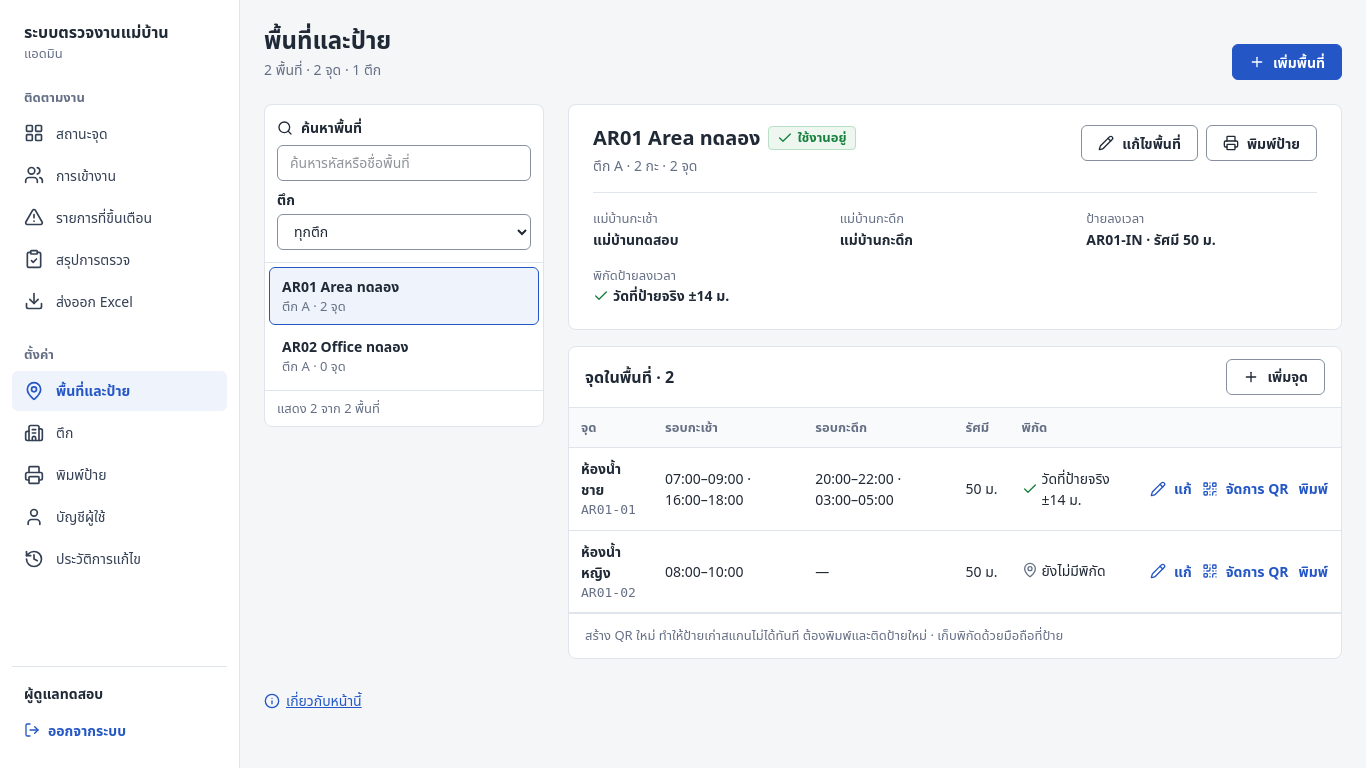
Scenario: PointEditor (D4, facility-0045, 0047) › shows the server’s refusal and keeps the draft
Click the button with aria-label "แก้ไข AR01-01": (1171, 489) [1149,471,1193,507]
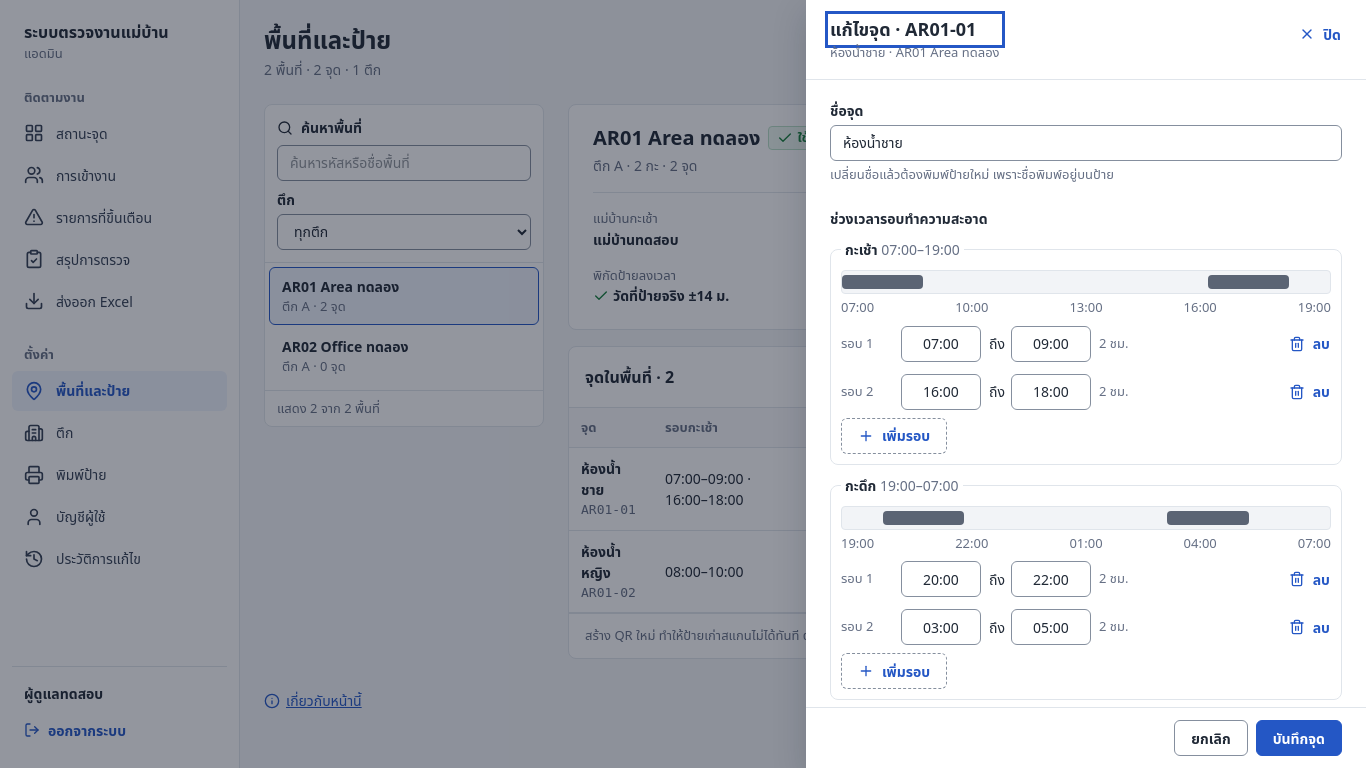
Click the button "เพิ่มรอบ" below "13:00": (894, 436) [841,418,947,454]
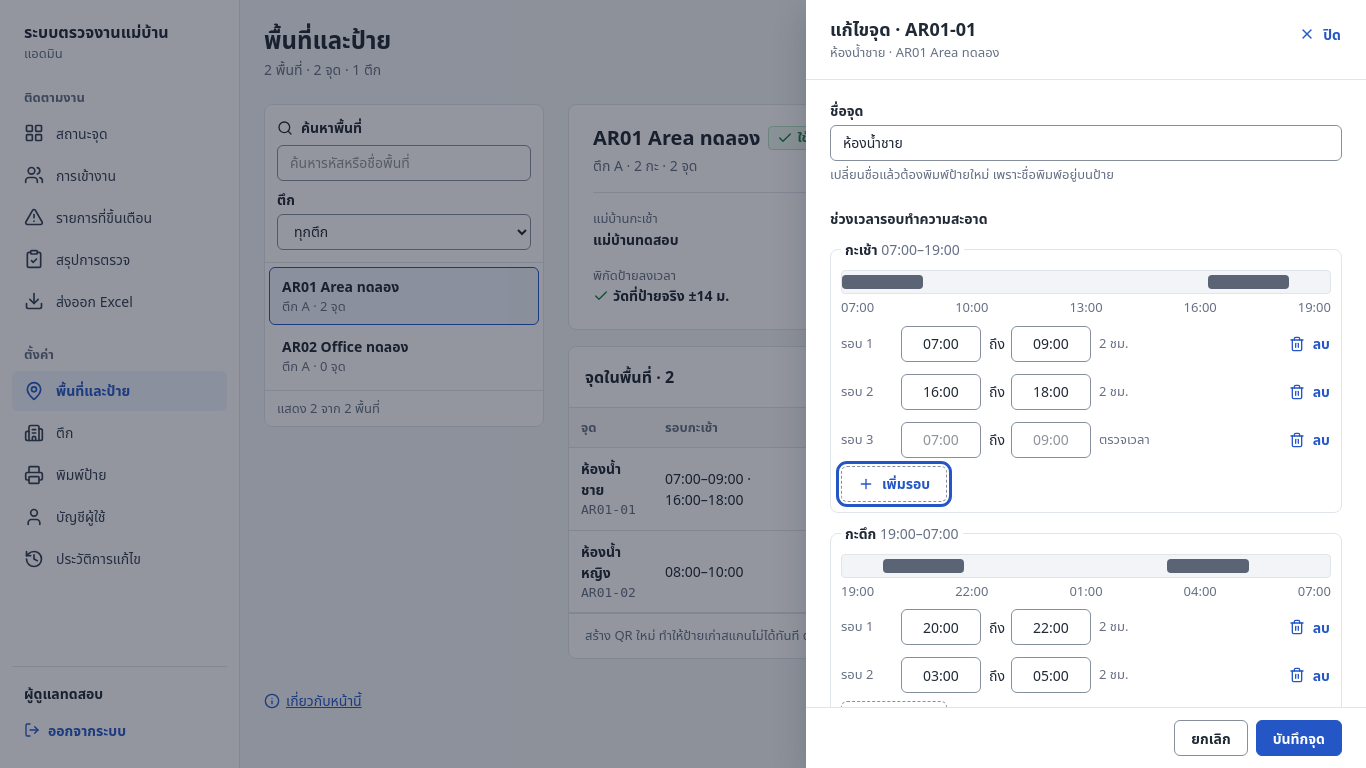
In the field named "เริ่มรอบ 3": (941, 440) [901,422,981,458], type "1800"
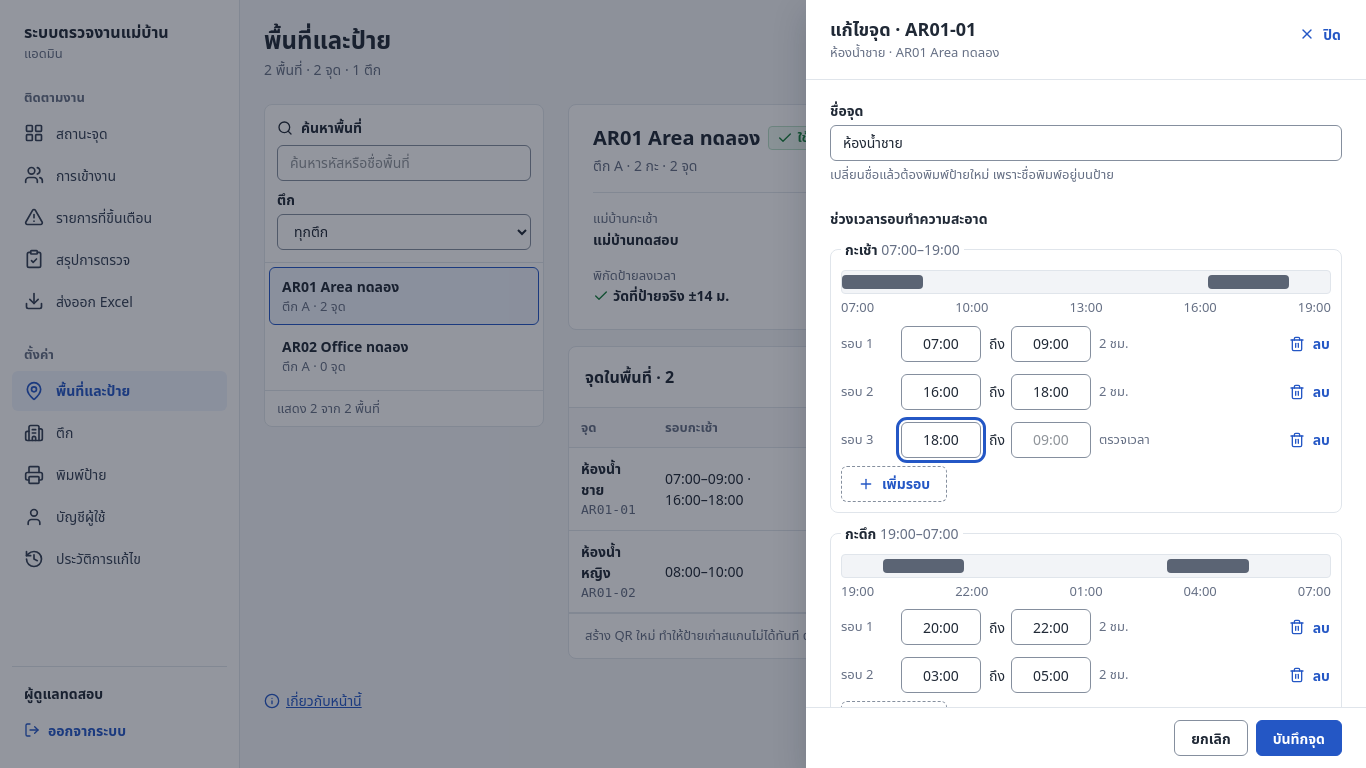
In the field with placeholder "09:00": (1051, 440) [1011,422,1091,458], type "2000"
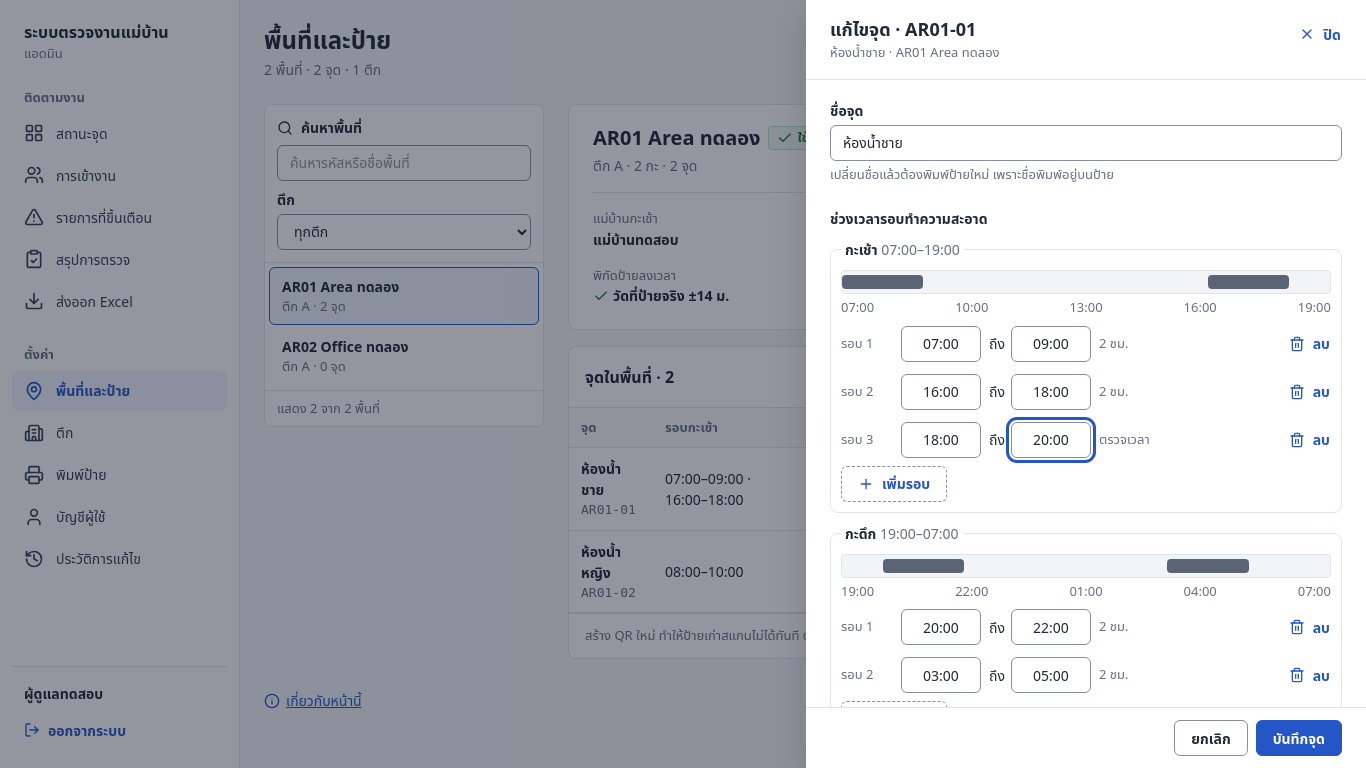
Click the button "บันทึกจุด": (1299, 738) [1256,720,1342,756]
(page scrolled)
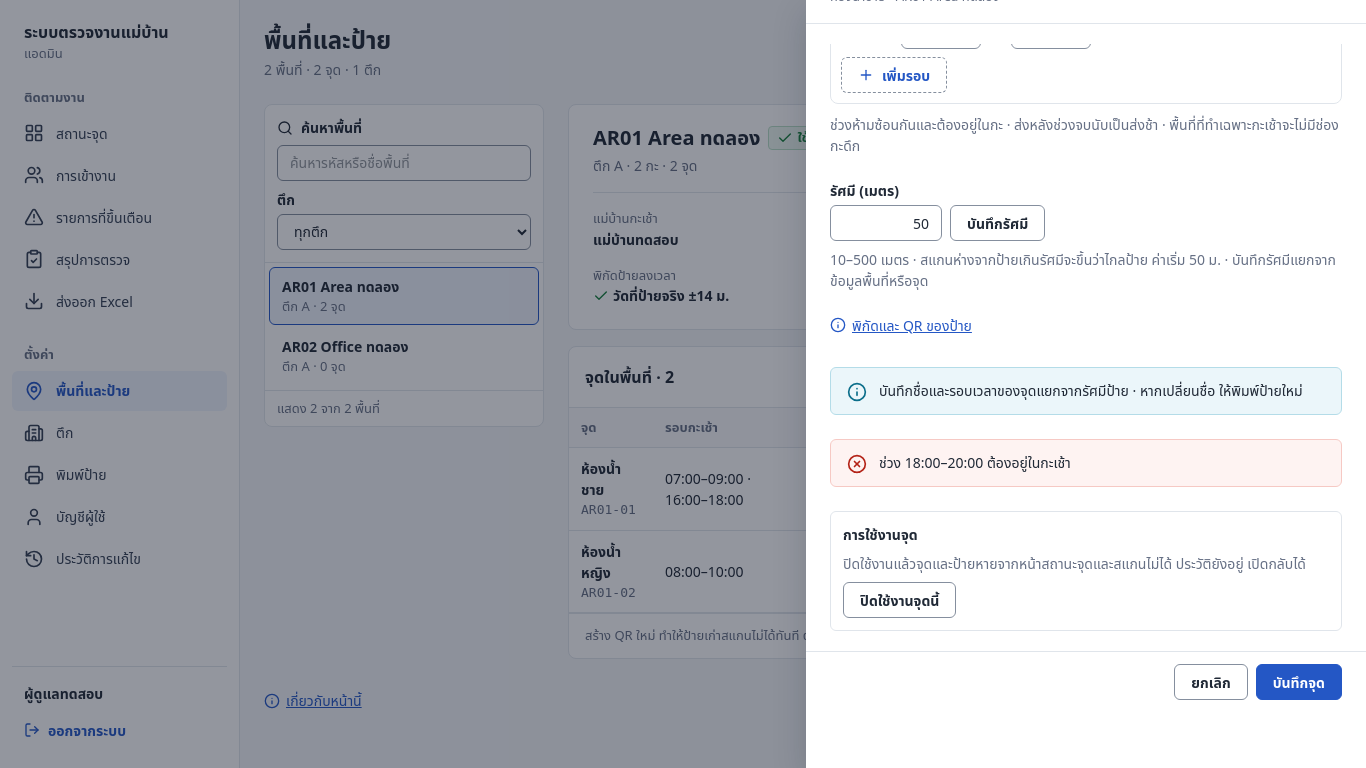
Check: the message reads "ช่วง 18:00–20:00 ต้องอยู่ในกะเช้า", box [879,453,1071,472]
